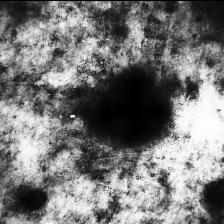Potentially Malignant Skin Tumors: (96, 81, 166, 143)
